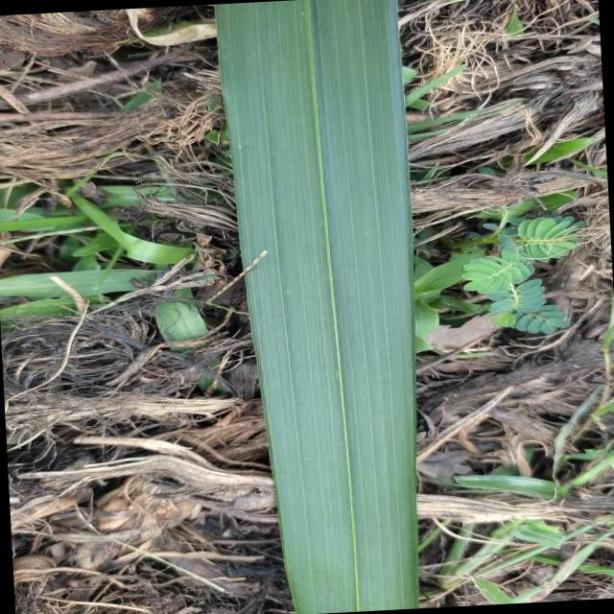Healthy: (214, 3, 417, 614)
